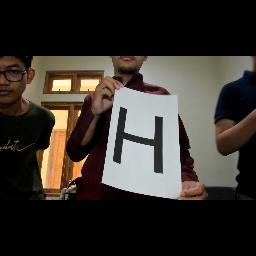h: (112, 104, 168, 180)
